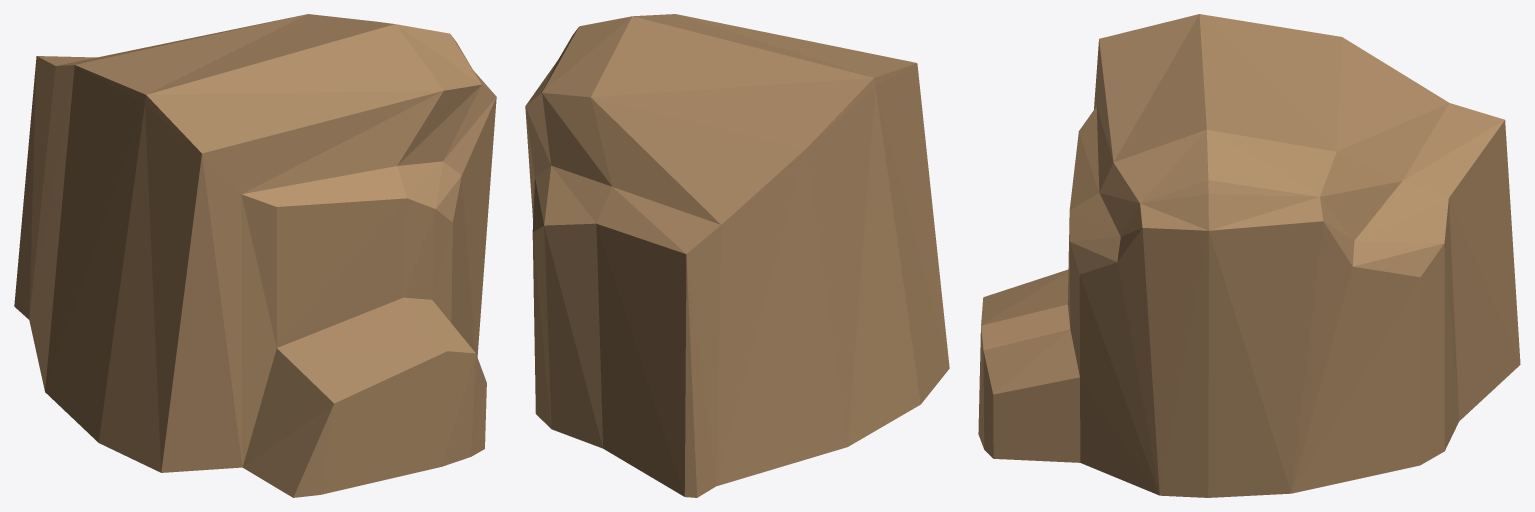
File: rock_desert_3.glb
The picture shows the model from 3 angles, left to right: view 1: azimuth 30°, elevation 25°; view 2: azimuth 150°, elevation 25°; view 3: azimuth 270°, elevation 25°; orthographic projection. The views are drawn at different scales.
Visible parts, largest first — view 1: lod0; view 2: lod0; view 3: lod0.
Part boxes in pixels (bbox=[...]): lod0: bbox=[14, 14, 496, 497]; lod0: bbox=[525, 14, 949, 497]; lod0: bbox=[978, 14, 1520, 497].
Size of what is drawn, in the model's own units: 1.68 by 1.45 by 2.11.
